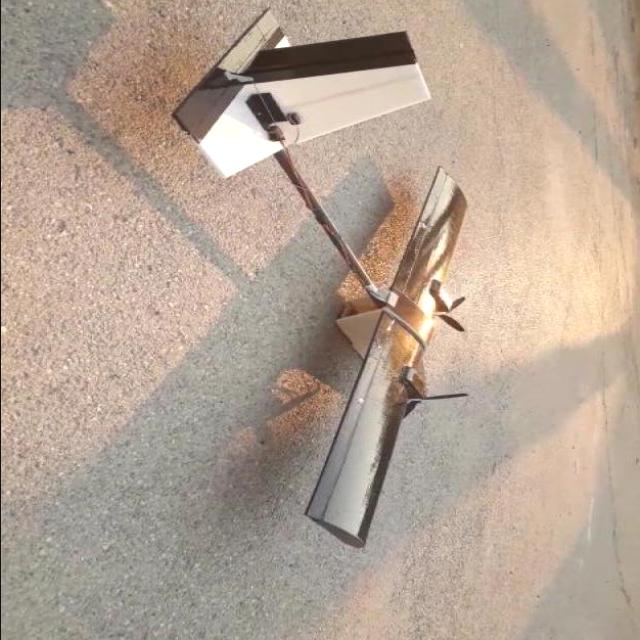plane: (172, 6, 474, 549)
